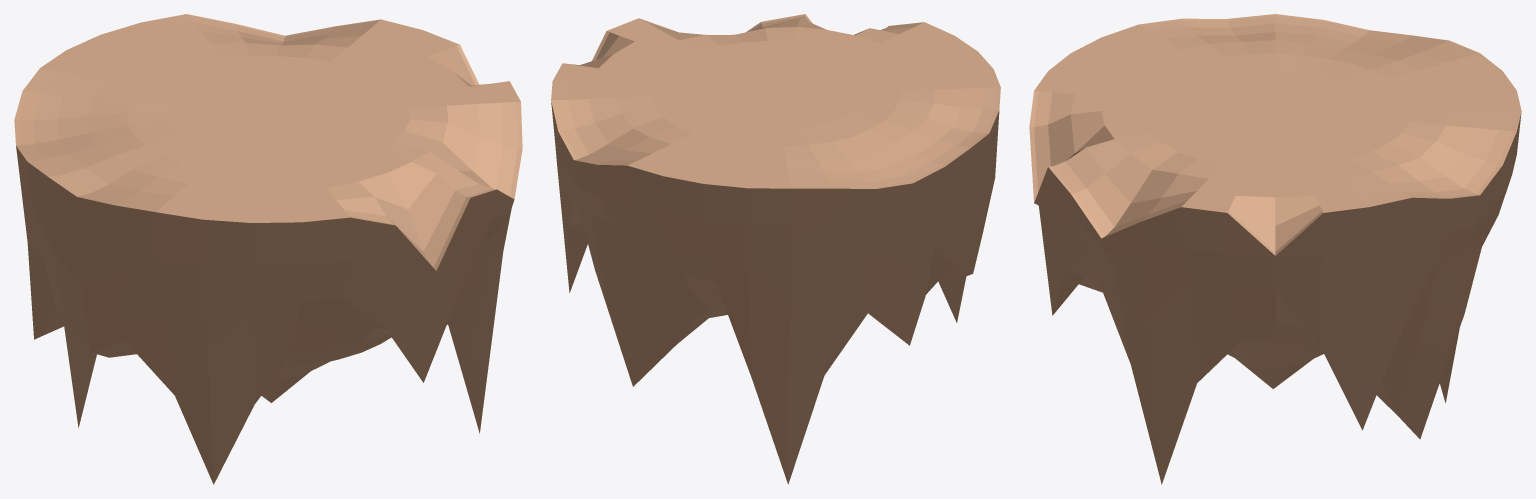
The model's file is sol.glb.
3 renders of one model, left to right at view 1: azimuth 30°, elevation 25°; view 2: azimuth 150°, elevation 25°; view 3: azimuth 270°, elevation 25°, orthographic. The views are drawn at different scales.
Parts seen in each view (by area): view 1: Sphere; view 2: Sphere; view 3: Sphere.
Boxes of the visible parts, left/top/right/bottom form: Sphere: left=14, top=14, right=522, bottom=484; Sphere: left=551, top=14, right=1000, bottom=484; Sphere: left=1029, top=14, right=1521, bottom=484.
Bounding box in the file's own units: 4 × 3.06 × 4.
